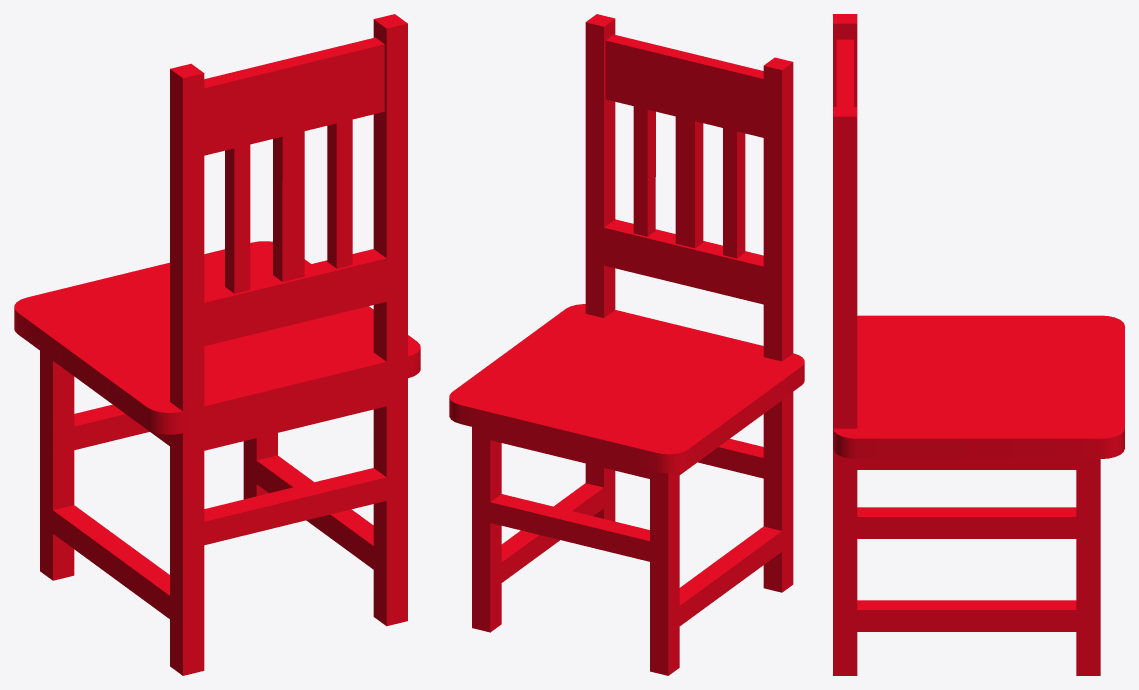
Rendered from Silla prueba.fbx.
3 views of the same model, side by side, from view 1: azimuth 30°, elevation 25°; view 2: azimuth 150°, elevation 25°; view 3: azimuth 270°, elevation 25° (orthographic). The views are drawn at different scales.
Parts seen in each view (by area): view 1: Cube; view 2: Cube; view 3: Cube.
Boxes of the visible parts, x1,y1,x2,y2 form: Cube: (14, 14, 420, 675); Cube: (449, 14, 804, 675); Cube: (833, 14, 1124, 675).
Size of the model in its own units: 2399 by 5077 by 2400.
